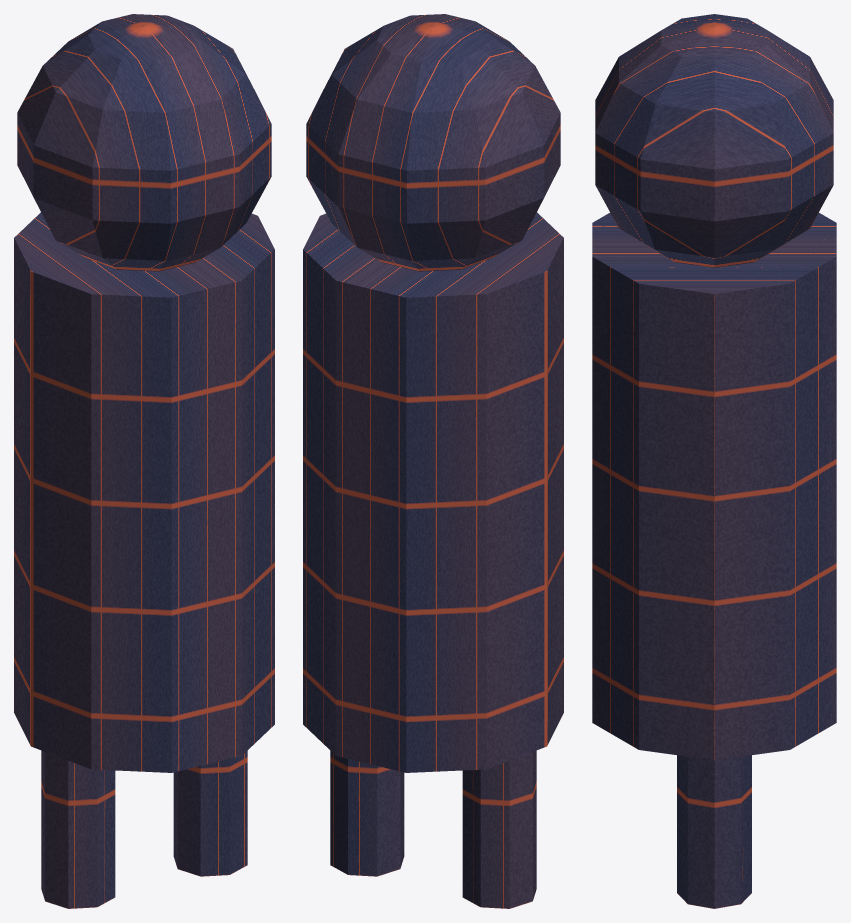
File: persona.obj
3 views of the same model, side by side, from view 1: azimuth 30°, elevation 25°; view 2: azimuth 150°, elevation 25°; view 3: azimuth 270°, elevation 25° (orthographic).
Parts seen in each view (by area): view 1: persona; view 2: persona; view 3: persona.
Boxes of the visible parts, x1,y1,x2,y2 form: persona: (14, 14, 274, 908); persona: (303, 14, 563, 908); persona: (592, 14, 836, 908).
Bounding box in the file's own units: 0.24 × 0.86 × 0.2283.
1 material, 1 textured.
